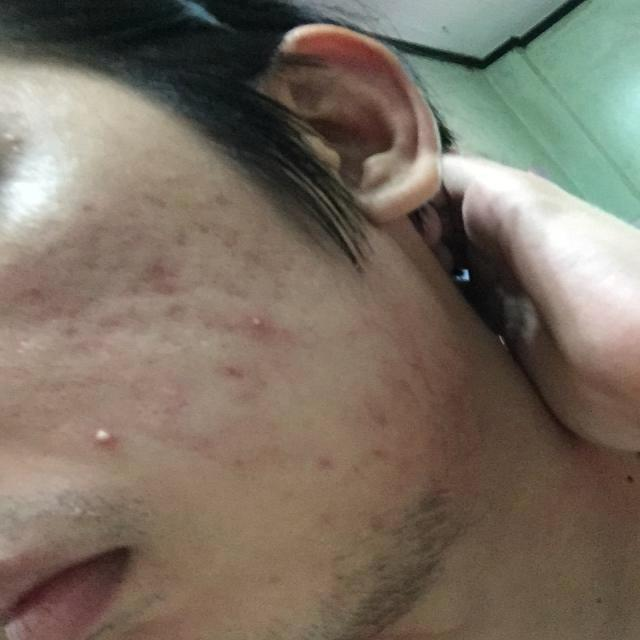Pimples: (74, 408, 135, 465), (229, 305, 283, 346)
